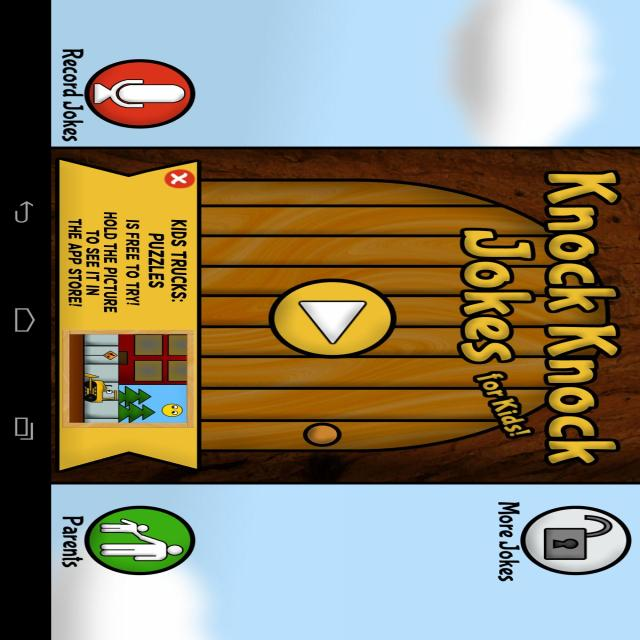button: (60, 37, 200, 143), (496, 492, 634, 591), (64, 496, 202, 584), (274, 273, 394, 358)
heading: (446, 160, 630, 471)
image: (55, 145, 640, 484), (68, 332, 194, 427)
label: (494, 495, 523, 586), (162, 168, 196, 198)
text: (66, 202, 194, 322), (57, 41, 88, 146), (55, 504, 88, 575)
